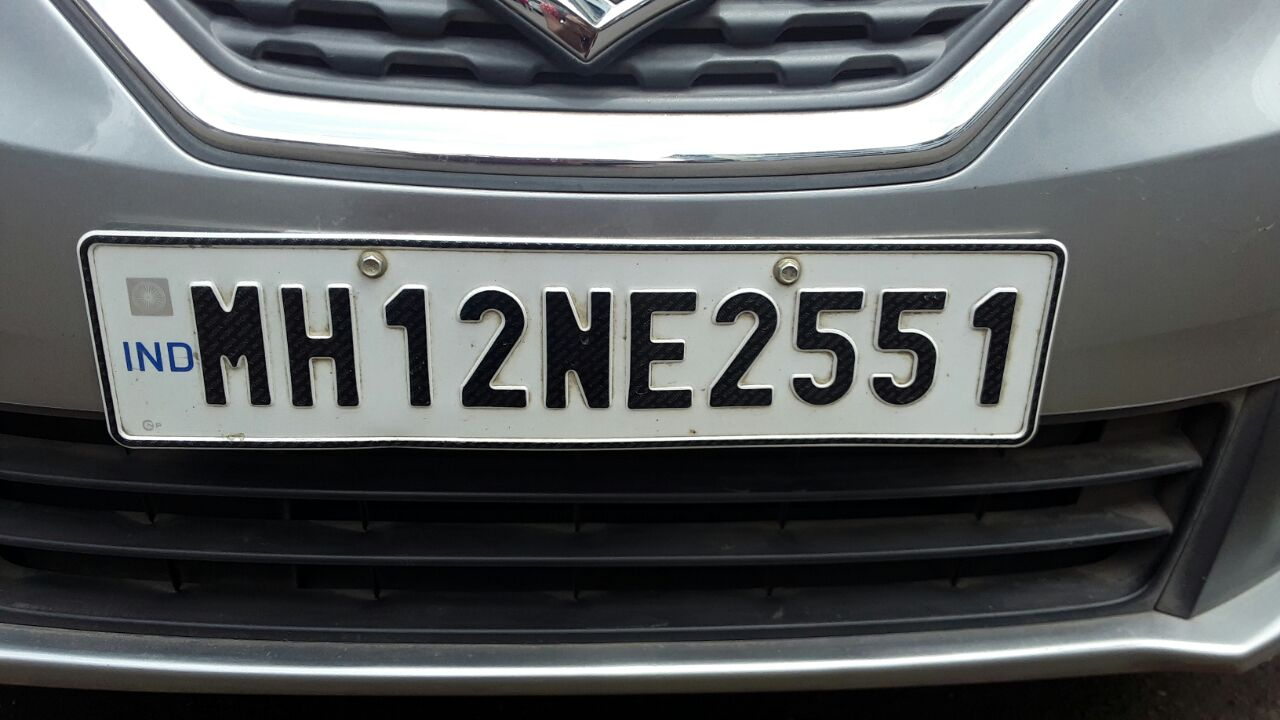licenseplate: (72, 223, 1073, 470)
